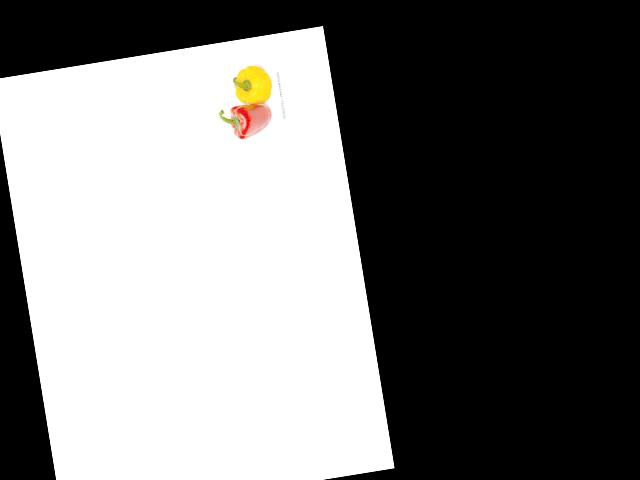bell_pepper: (227, 60, 278, 109)
